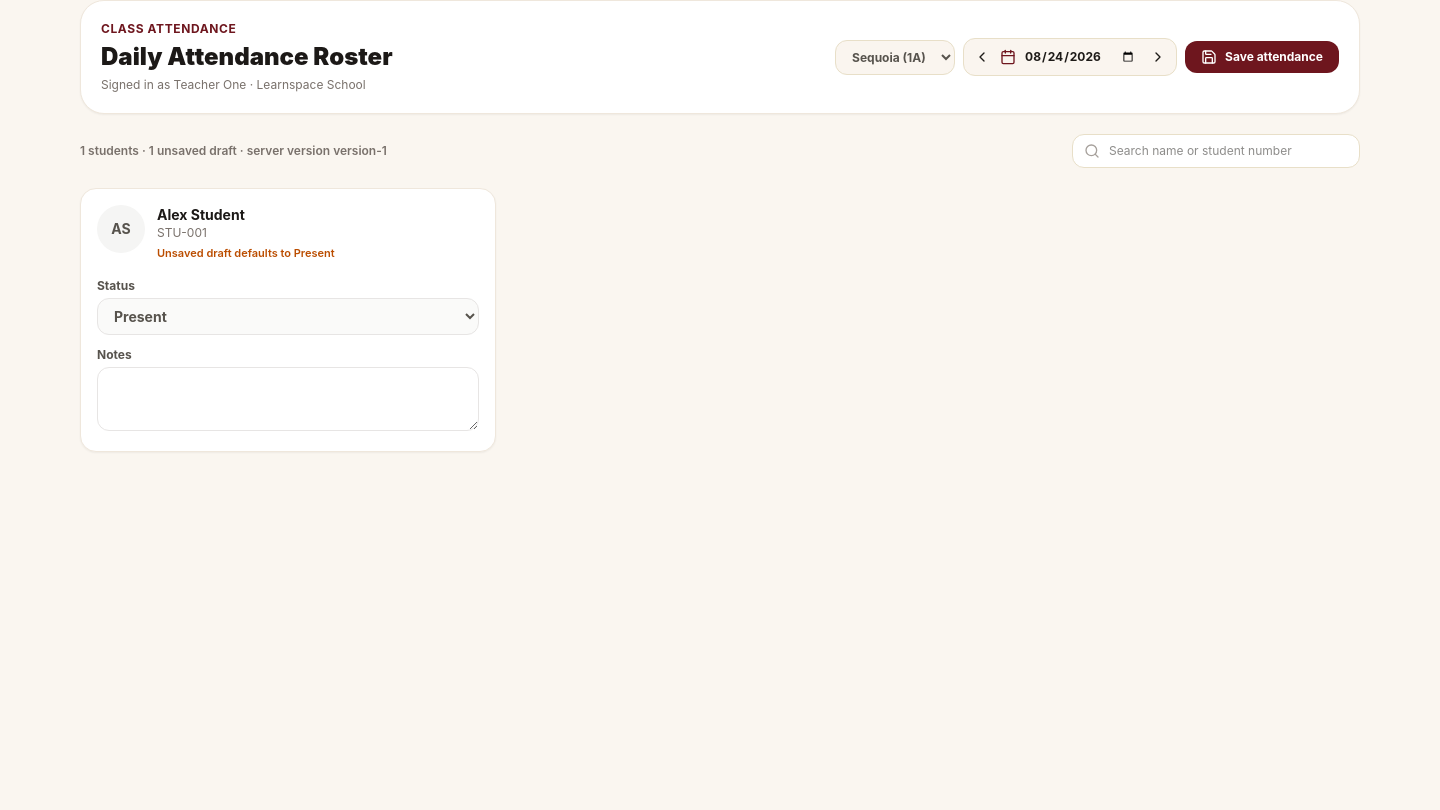
Test: AttendanceView › validates Late minutes and saves only the loaded roster using the server version
Expected: the heading "Alex Student" is shown, 157,206 -> 245,223
Step 1. Select "Late" in the dropdown named "Status for Alex Student" → x=288, y=316, box 97,298 -> 479,334
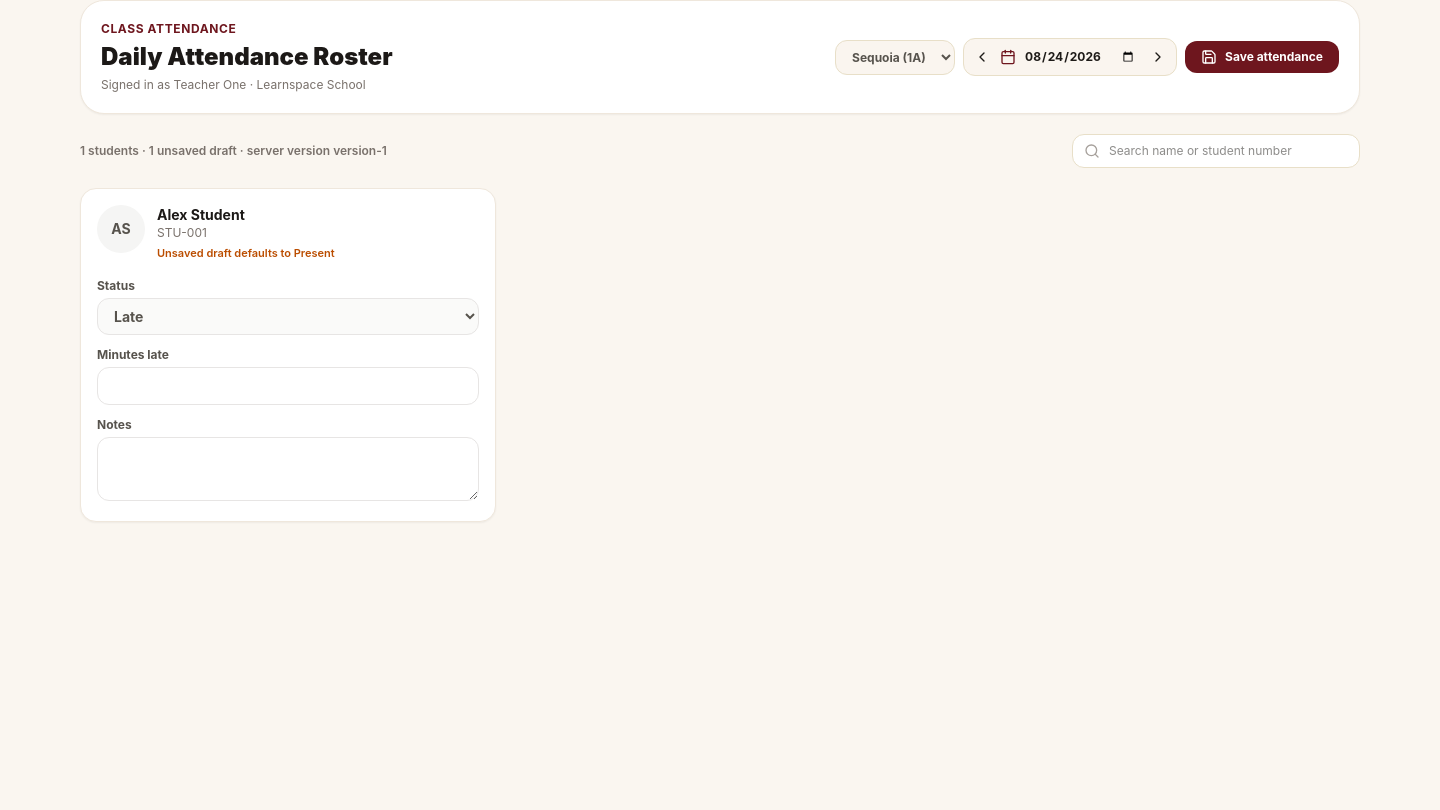
Step 2. Click the button "Save attendance" → x=1262, y=57, box 1185,41 -> 1339,73
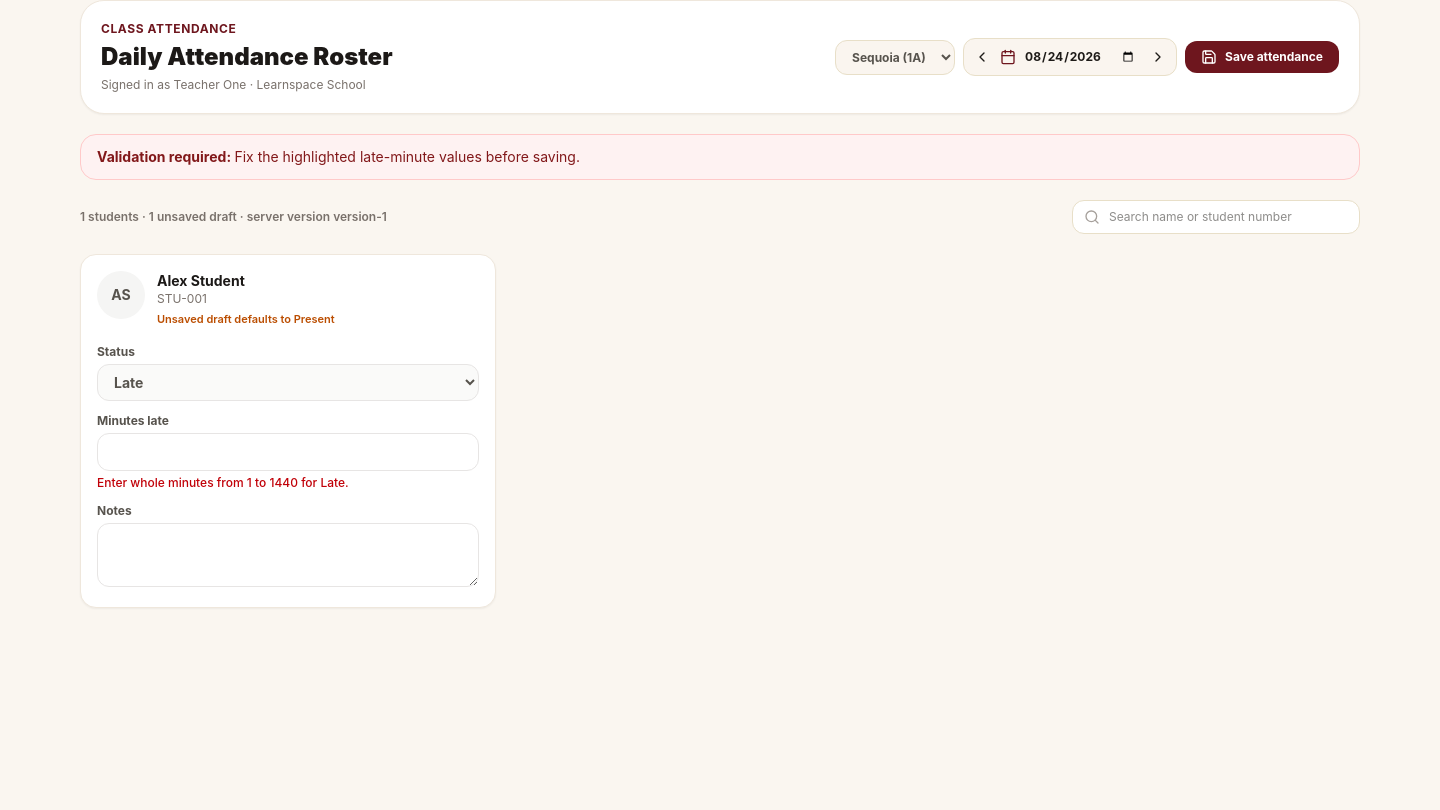
Now the text "Enter whole minutes from 1 to 1440 for Late." is shown, box 97,474 -> 349,490
Step 3. Type "12" into the number field named "Minutes late for Alex Student" → x=288, y=452, box 97,432 -> 479,470
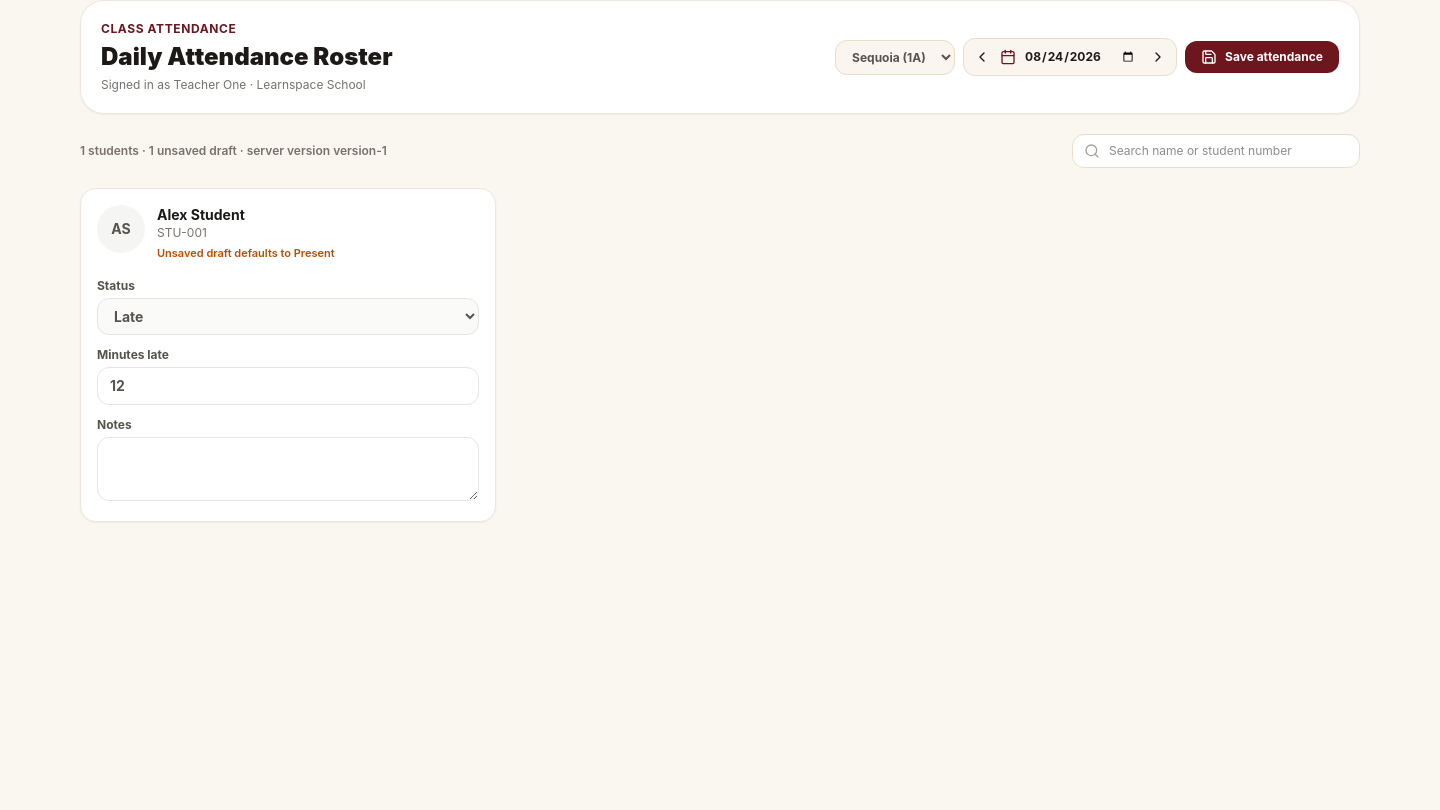
Step 4. Type "Bus delay" into the text box named "Notes for Alex Student" → x=288, y=468, box 97,436 -> 479,500
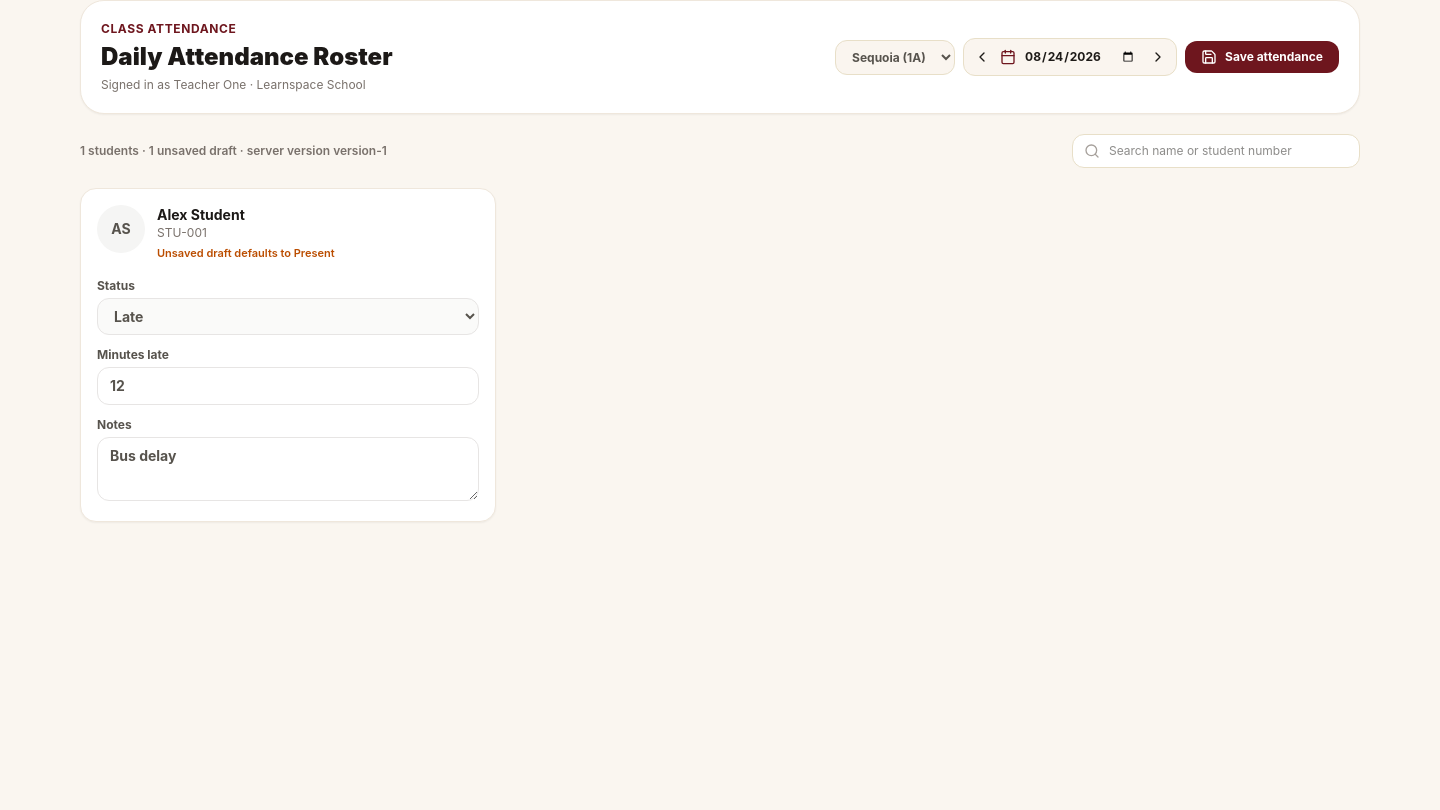
Step 5. Click the button "Save attendance" → x=1262, y=57, box 1185,41 -> 1339,73
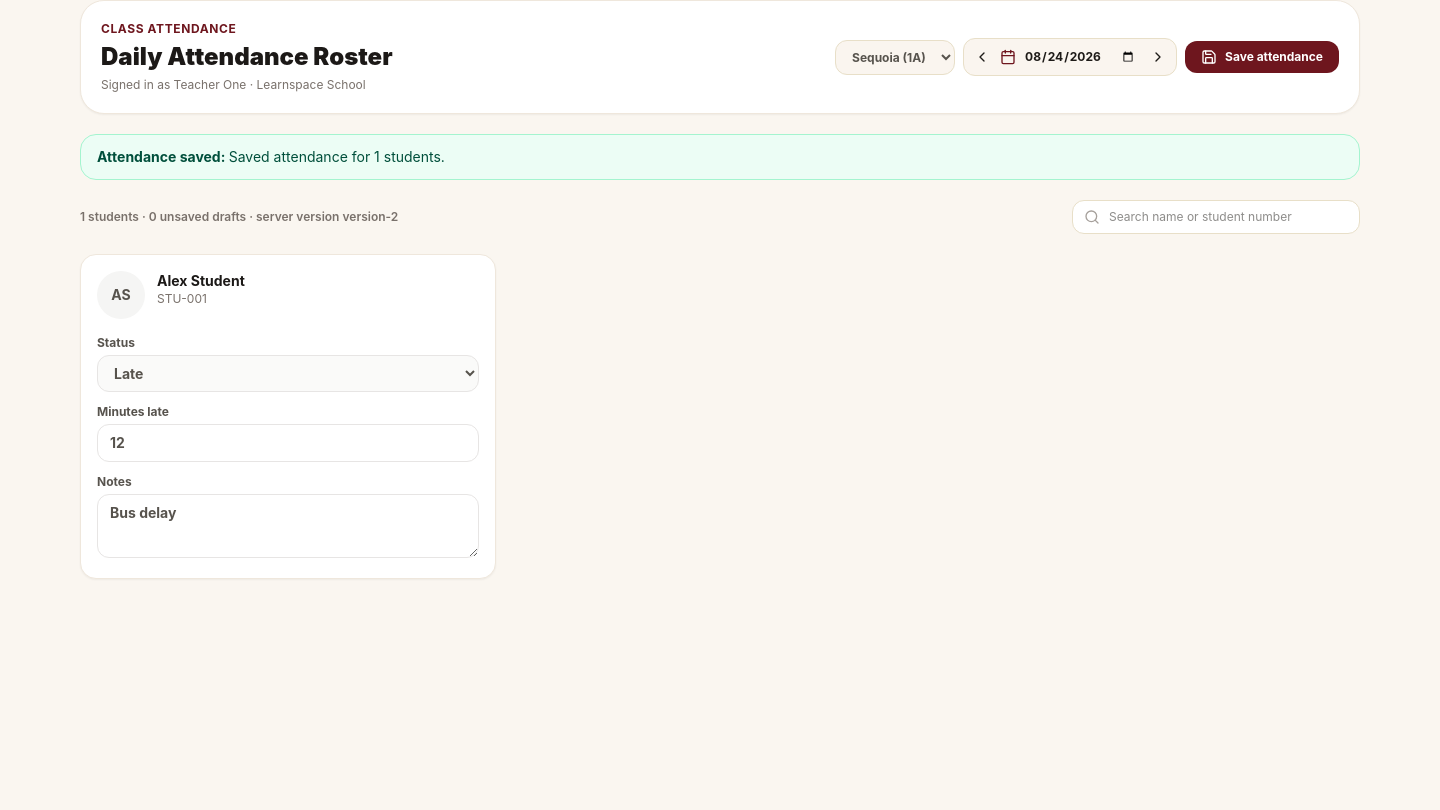
Now the text "Saved attendance for 1 students." is shown, box 229,148 -> 445,165
Now the text "1 students · 0 unsaved drafts · server version version-2" is shown, box 80,209 -> 398,225
Now the text "Unsaved draft defaults to Present" is gone
